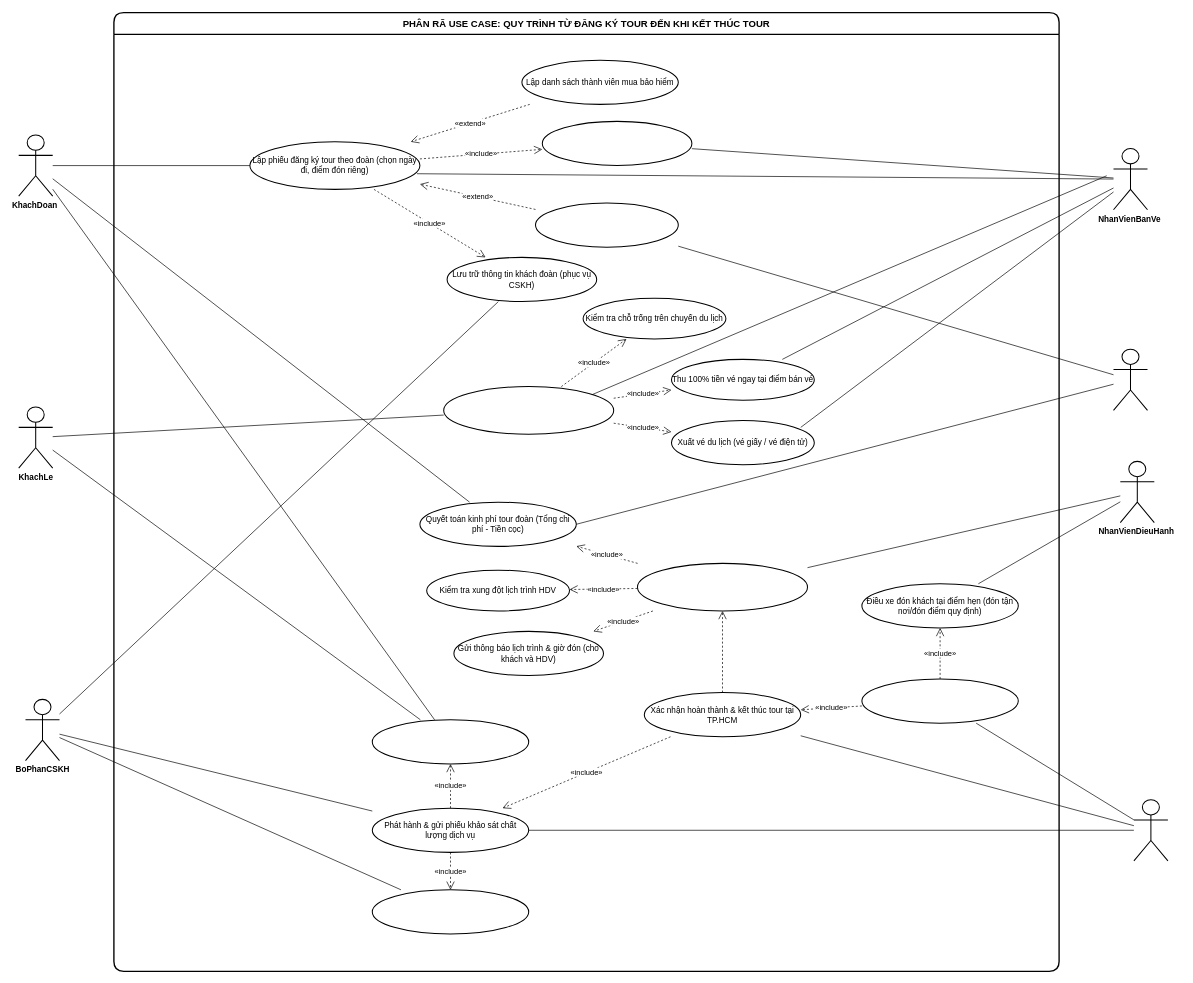
The diagram is 1193 pixels wide and 983 high, and some of its shapes have lost their labels. The shapes that lost their labels are listed below. From the top down, each one's centre as x and y in pixels, then its label:
the point at 616,143: Thu tiền đặt cọc đoàn (bắt buộc khi đăng ký)
the point at 607,224: Xử lý hủy tour đoàn (tịch thu tiền cọc)
the point at 1130,379: KeToan
the point at 528,410: Bán vé du lịch cho khách lẻ (chọn chuyến, điểm đón cố định)
the point at 722,587: Phân công Hướng dẫn viên (1 HDV/chuyến lẻ, >=1 HDV/đoàn)
the point at 940,700: Thực hiện dẫn tour theo lộ trình (dừng chân, ăn ở, tham quan)
the point at 450,741: Điền phiếu khảo sát đánh giá & đóng góp ý kiến
the point at 1150,830: HuongDanVien
the point at 450,911: Tổng hợp ý kiến góp ý & Báo cáo chất lượng tour
